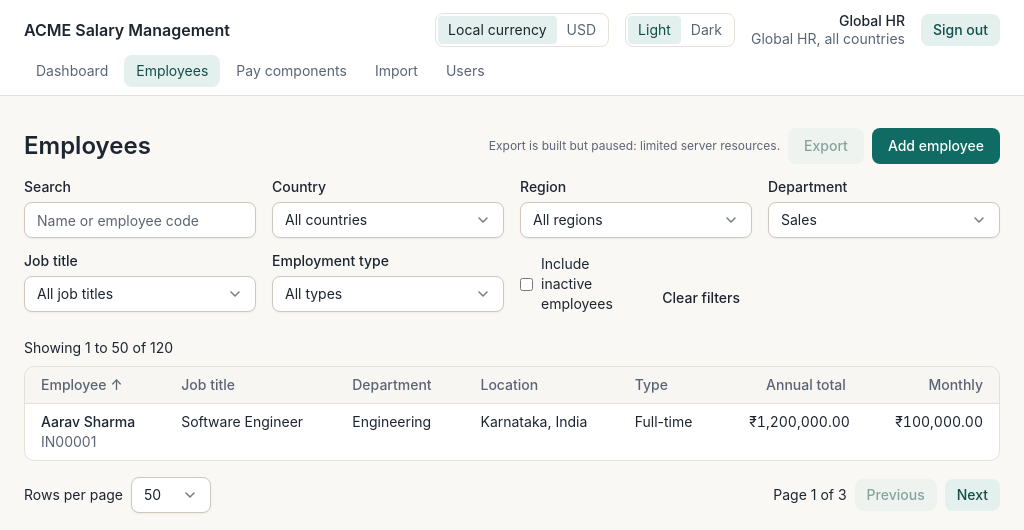
Test case: EmployeesPage dropdowns › shows "All" when a filter is not set and clears it again
The width and height of the screenshot is (1024, 530).
Check: the table is shown, box [25,367,999,460]
Click the dropdown named "Department" at [884, 220], box [768,202,1000,238]
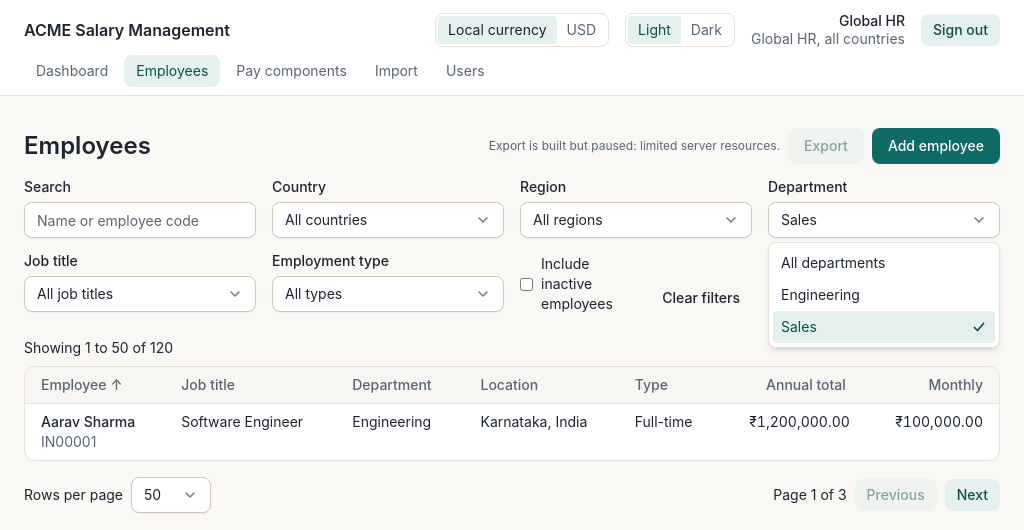
Click the option "All departments" at [833, 262], box [781,254,885,271]
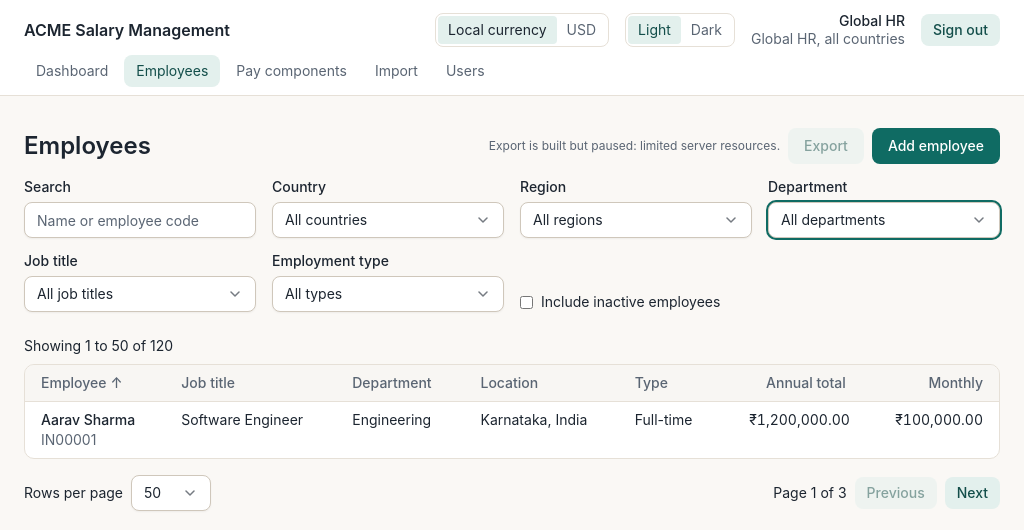
Check: the dropdown labelled "department" reads "All departments", box [768,202,1000,238]
